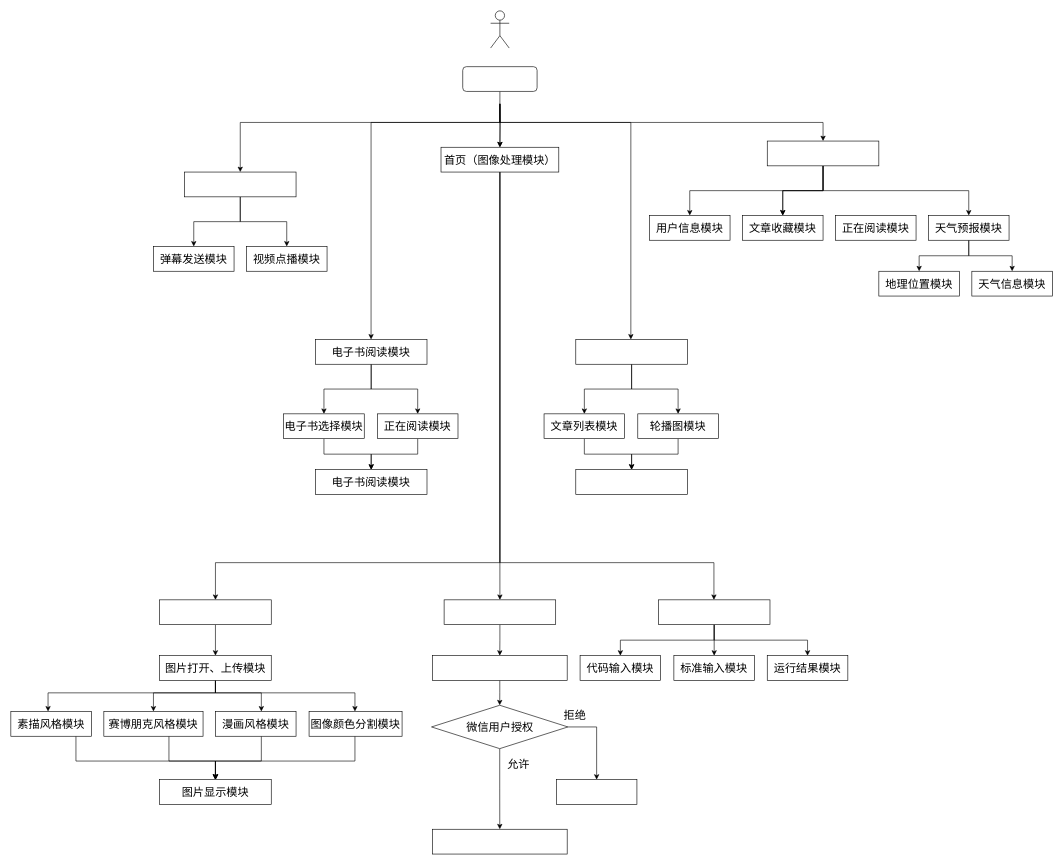
This 1063x865 diagram has some shape labels left out. Here are the shapes that lost their labels. From the top down, the centre of each, then its label:
point (499, 29): Actor
point (499, 78): 开始
point (823, 153): 我的主页模块
point (240, 184): 教程视频模块
point (631, 351): 教程文章模块
point (631, 481): 文章阅读模块
point (215, 612): 图像处理
point (499, 612): 登录模块
point (714, 612): Python在线运行模块
point (499, 667): 登录
point (596, 791): 拒绝获取
point (499, 841): 成功获取用户昵称、头像
